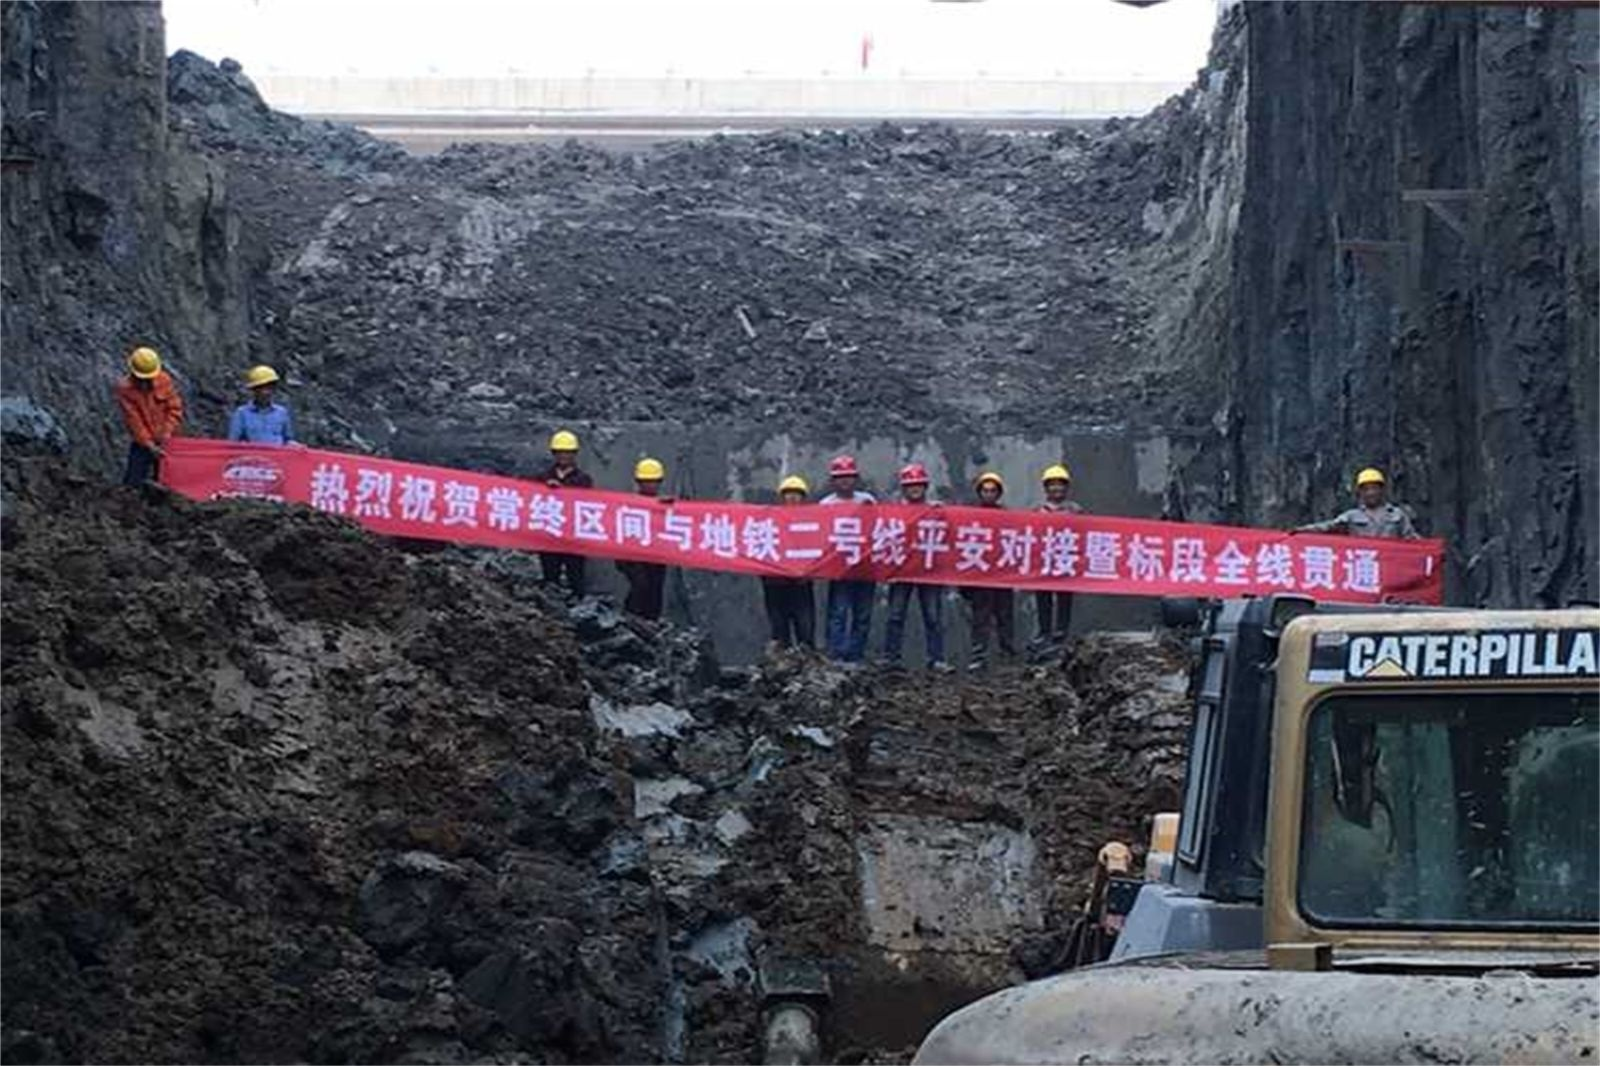red: (897, 462, 931, 500), (828, 454, 860, 493)
yellow: (123, 343, 163, 387), (243, 363, 278, 405), (544, 428, 581, 468), (630, 456, 666, 496), (971, 469, 1008, 503), (1355, 465, 1386, 506), (774, 472, 812, 504), (1040, 463, 1068, 498)
